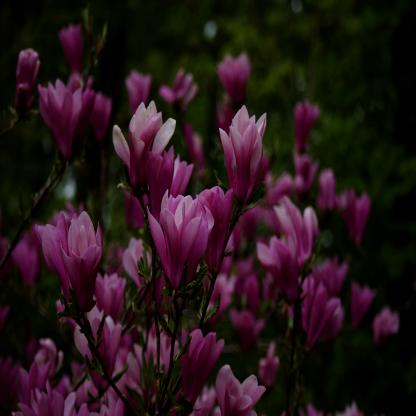Mokuren: (0, 22, 400, 416)
